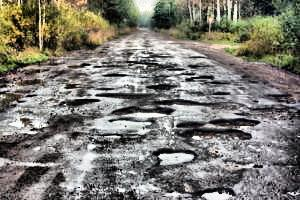pothole: (177, 129, 253, 145), (151, 147, 202, 170), (110, 105, 179, 119), (203, 114, 264, 128), (191, 187, 242, 200), (154, 98, 199, 107), (68, 96, 97, 109), (146, 83, 176, 91), (101, 73, 128, 77), (212, 92, 230, 96)
